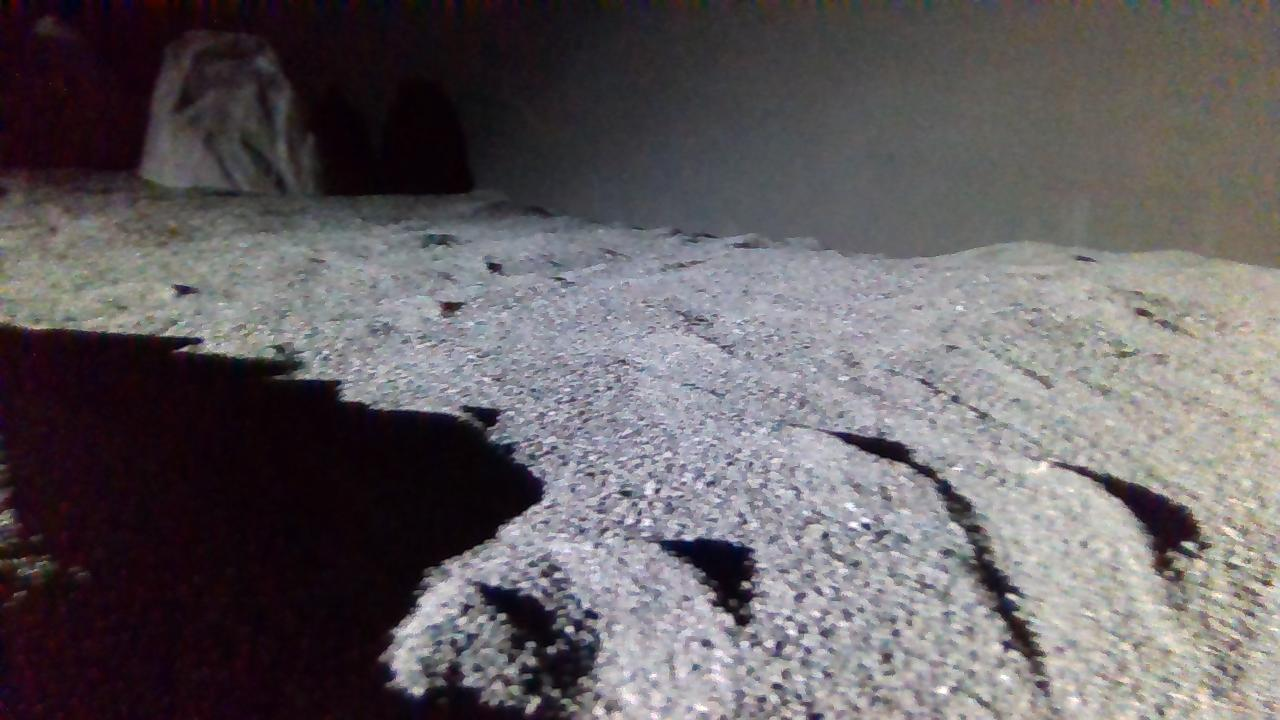rock: (138, 30, 315, 193)
